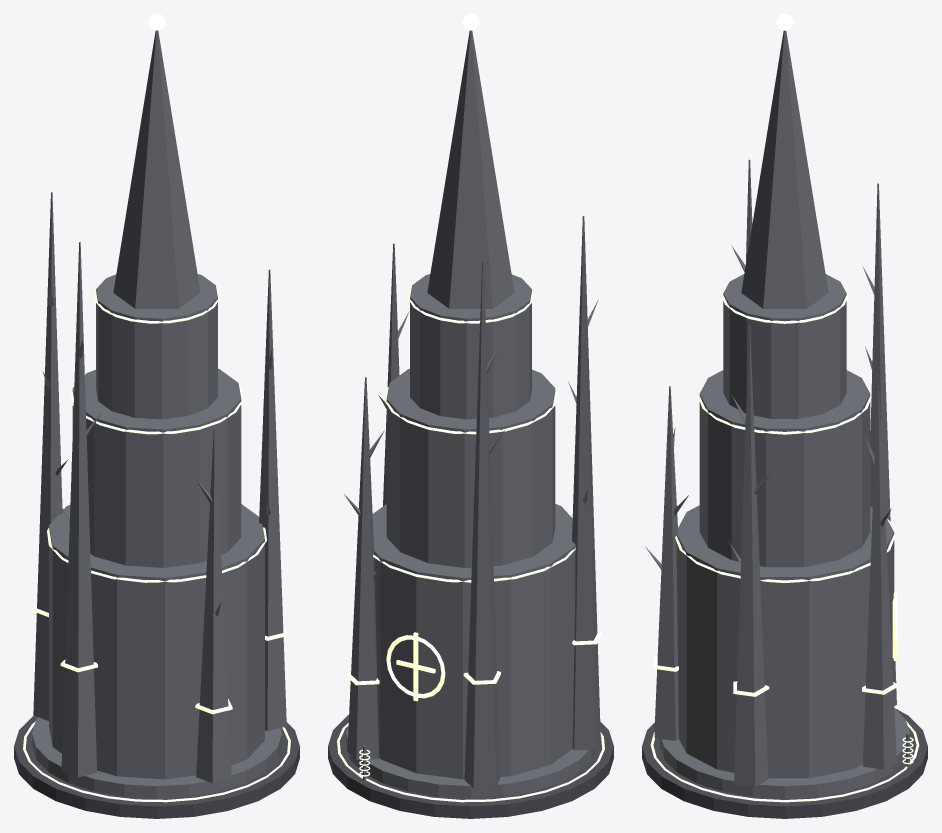
File: zone_high_3_t5.glb
3 renders of one model, left to right at view 1: azimuth 30°, elevation 25°; view 2: azimuth 150°, elevation 25°; view 3: azimuth 270°, elevation 25°, orthographic.
Visible parts, largest first — view 1: zone_high_3_t5; view 2: zone_high_3_t5; view 3: zone_high_3_t5.
Boxes of the visible parts, x1,y1,x2,y2 form: zone_high_3_t5: (14,14,299,818); zone_high_3_t5: (328,14,613,818); zone_high_3_t5: (642,14,927,818).
Bounding box in the file's own units: 28.8 × 82.75 × 28.8.
